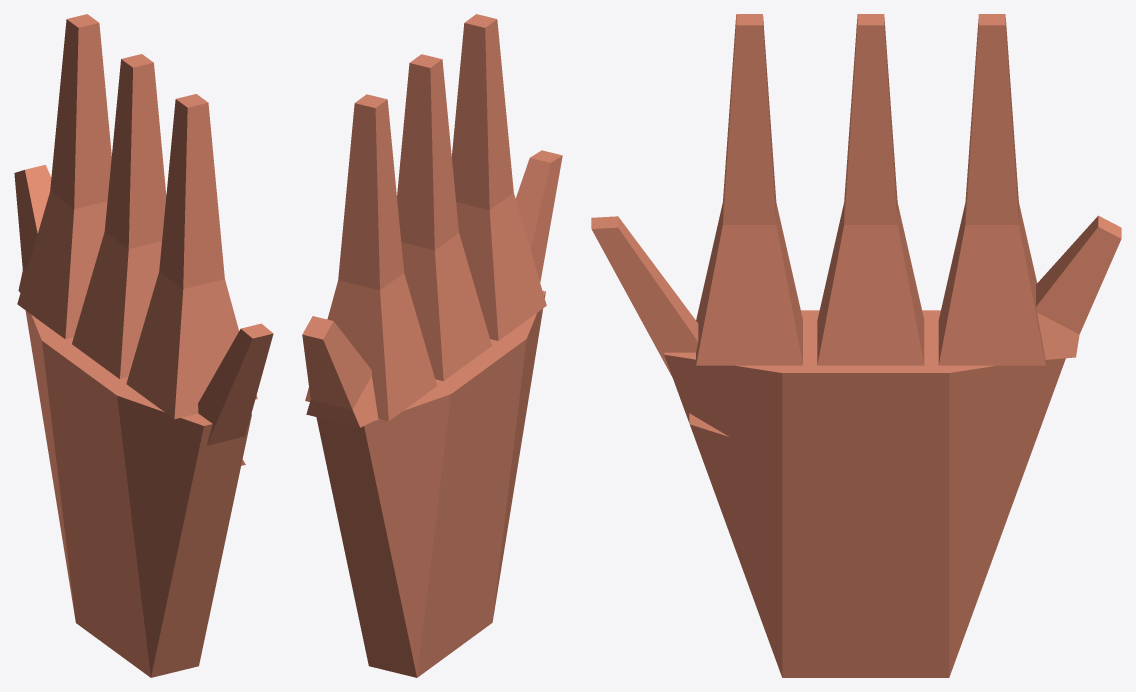
File: Karate Chop.fbx
The picture shows the model from 3 angles, left to right: view 1: azimuth 30°, elevation 25°; view 2: azimuth 150°, elevation 25°; view 3: azimuth 270°, elevation 25°; orthographic projection. The views are drawn at different scales.
Visible parts, largest first — view 1: mergedBlocks; view 2: mergedBlocks; view 3: mergedBlocks.
Part boxes in pixels (bbox=[...]): mergedBlocks: bbox=[14, 14, 273, 677]; mergedBlocks: bbox=[302, 14, 562, 677]; mergedBlocks: bbox=[591, 14, 1121, 677].
Bounding box in the file's own units: 2.09 × 10 × 7.43.
